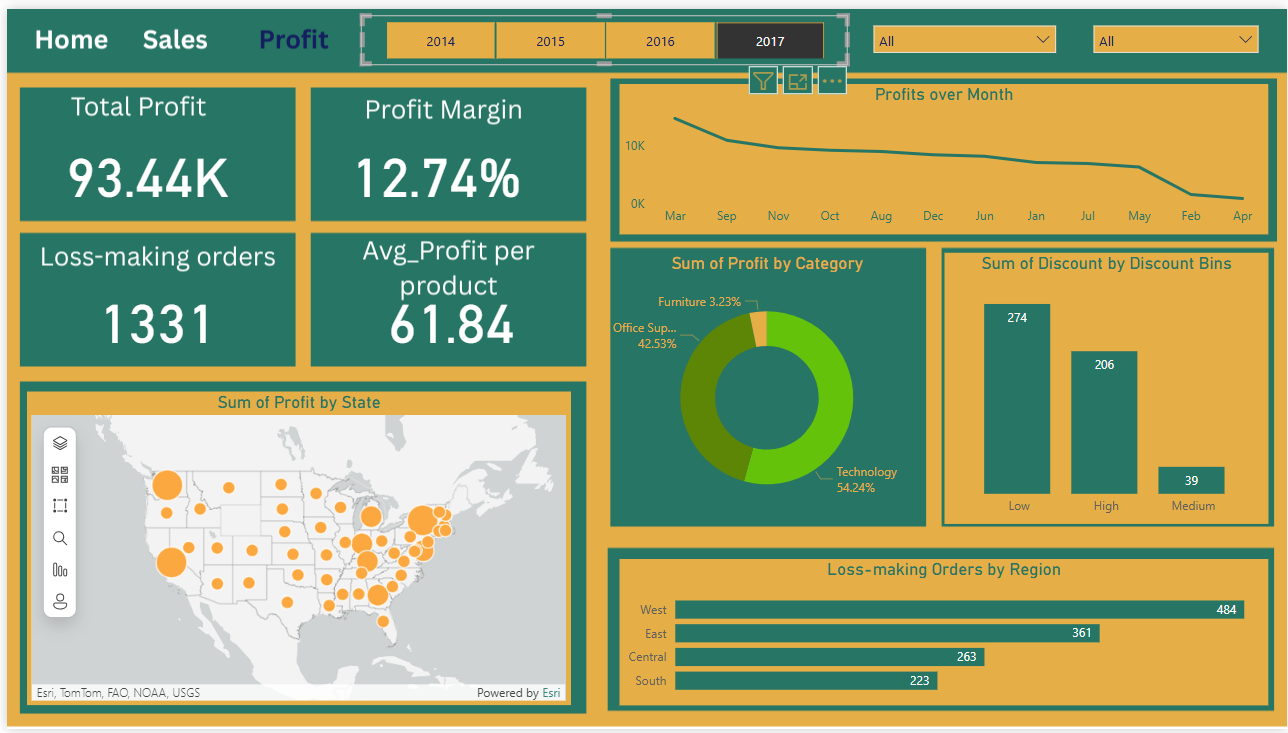

Layout of this report page (visuals, bound fields, positions):
{"tool":"powerbi","page":{"name":"Profit","canvas":[1280,720],"ordinal":2},"visuals":[{"type":"card","fields":{"Values":["Sum(Sample.Profit)"]},"box":[36.2,122.5,208.8,78.8],"z":0},{"type":"card","fields":{"Values":["Sample.Profit Margin (%)"]},"box":[325,122.5,208.8,78.8],"z":1},{"type":"card","fields":{"Values":["Sample.Loss-making Orders"]},"box":[46.2,268.8,208.8,78.8],"z":2},{"type":"card","fields":{"Values":["Sample.Average Profit by Product"]},"box":[340,268.8,208.8,78.8],"z":3},{"type":"lineChart","title":"Profits over Month","fields":{"Category":["year table.Month"],"Y":["Sum(Sample.Profit)"]},"box":[612.8,75.6,648.8,150],"z":4},{"type":"slicer","fields":{"Values":["year table.Year"]},"box":[353.8,6.2,487.5,50],"z":5},{"type":"slicer","fields":{"Values":["Sample.Region"]},"box":[856.2,6.2,202.5,66.2],"z":6},{"type":"slicer","fields":{"Values":["Sample.Category"]},"box":[1076.2,6.2,185,37.5],"z":7},{"type":"esriVisual","fields":{"Location":["Sample.State"],"Size":["Sum(Sample.Profit)"]},"box":[20,382.5,543.8,313.8],"z":8},{"type":"donutChart","fields":{"Category":["Sample.Category"],"Y":["Sum(Sample.Profit)"]},"box":[597.5,243.8,325,271.2],"z":9},{"type":"columnChart","fields":{"Y":["Sum(Sample.Discount)"],"Category":["Sample.Discount Bins"]},"box":[937.5,243.8,323.8,271.2],"z":10},{"type":"barChart","fields":{"Y":["Sample.Loss-making Orders"],"Category":["Sample.Region"]},"box":[612.5,550,648.8,146.2],"z":11},{"type":"actionButton","box":[20,11.2,100,40],"z":12},{"type":"actionButton","box":[120,6.2,100,50],"z":13}]}

Visuals, with their boxes in screenshot pixels (x1, y1, x2, y2), scaled from the page's 1280x720 canvas onto the 1288x733 screenshot:
card - Sum(Sample.Profit): detection(36, 125, 247, 205)
card - Sample.Profit Margin (%): detection(327, 125, 537, 205)
card - Sample.Loss-making Orders: detection(46, 274, 257, 354)
card - Sample.Average Profit by Product: detection(342, 274, 552, 354)
"Profits over Month" lineChart: detection(617, 77, 1269, 230)
slicer - year table.Year: detection(356, 6, 847, 57)
slicer - Sample.Region: detection(862, 6, 1065, 74)
slicer - Sample.Category: detection(1083, 6, 1269, 44)
esriVisual - Sample.State x Sum(Sample.Profit): detection(20, 389, 567, 709)
donutChart - Sample.Category x Sum(Sample.Profit): detection(601, 248, 928, 524)
columnChart - Sum(Sample.Discount) x Sample.Discount Bins: detection(943, 248, 1269, 524)
barChart - Sample.Loss-making Orders x Sample.Region: detection(616, 560, 1269, 709)
actionButton: detection(20, 11, 121, 52)
actionButton: detection(121, 6, 221, 57)
